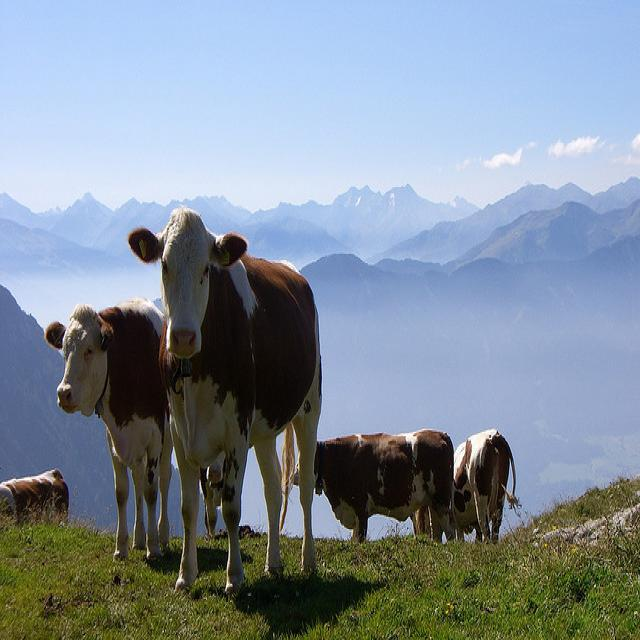cow: (121, 202, 326, 593), (44, 295, 172, 558), (290, 427, 454, 541), (442, 427, 518, 544), (0, 467, 68, 532), (193, 449, 226, 541)
